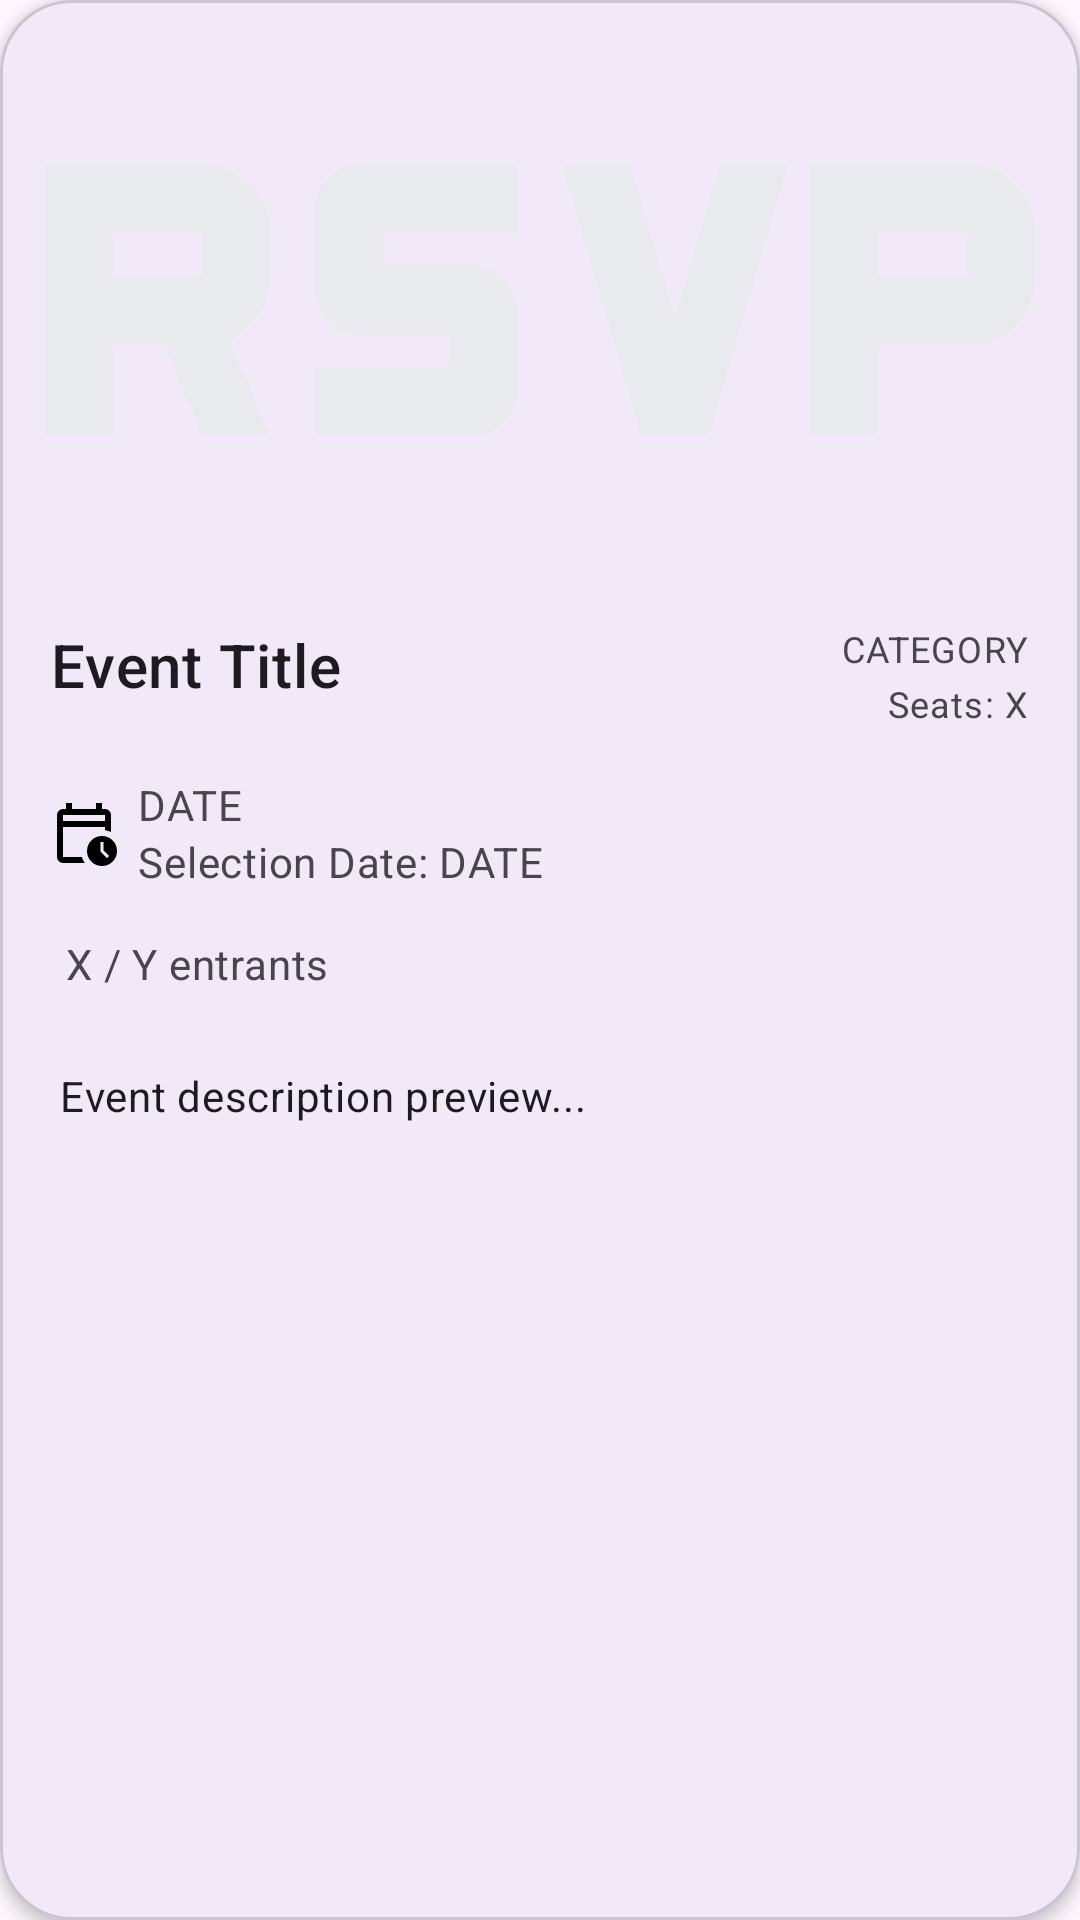

Point at icon controls on the screen. Image size 1080px×1920px, points as (x,y).
calendar clock: (87,834)
